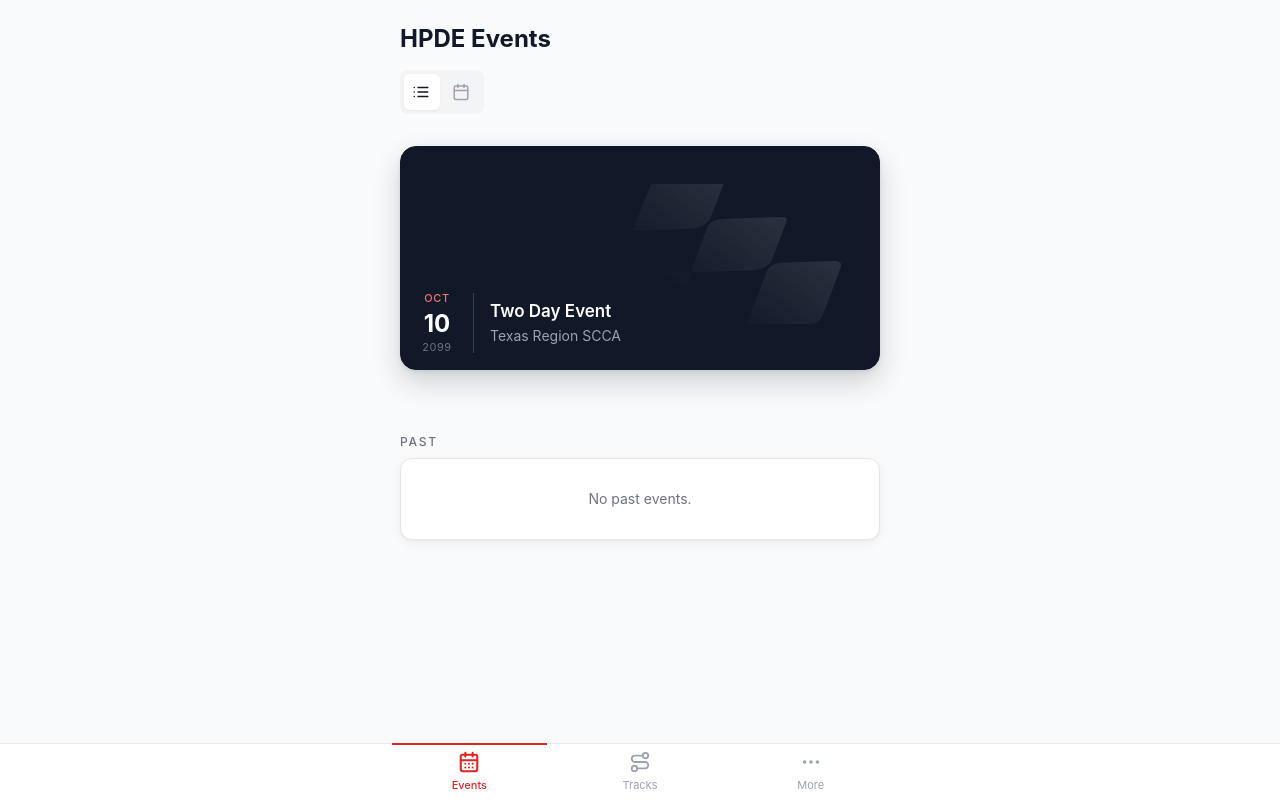
the More tab: Share, the iOS widget and the build date (#395, #416) › still switches between list and calendar
expect the button "Oct 10 2099 Two Day Event Texas Region SCCA" is shown: met, box [400,146,880,370]
Step 1. Click the button named "Calendar view" → {"x": 462, "y": 92}, box [444,74,480,110]
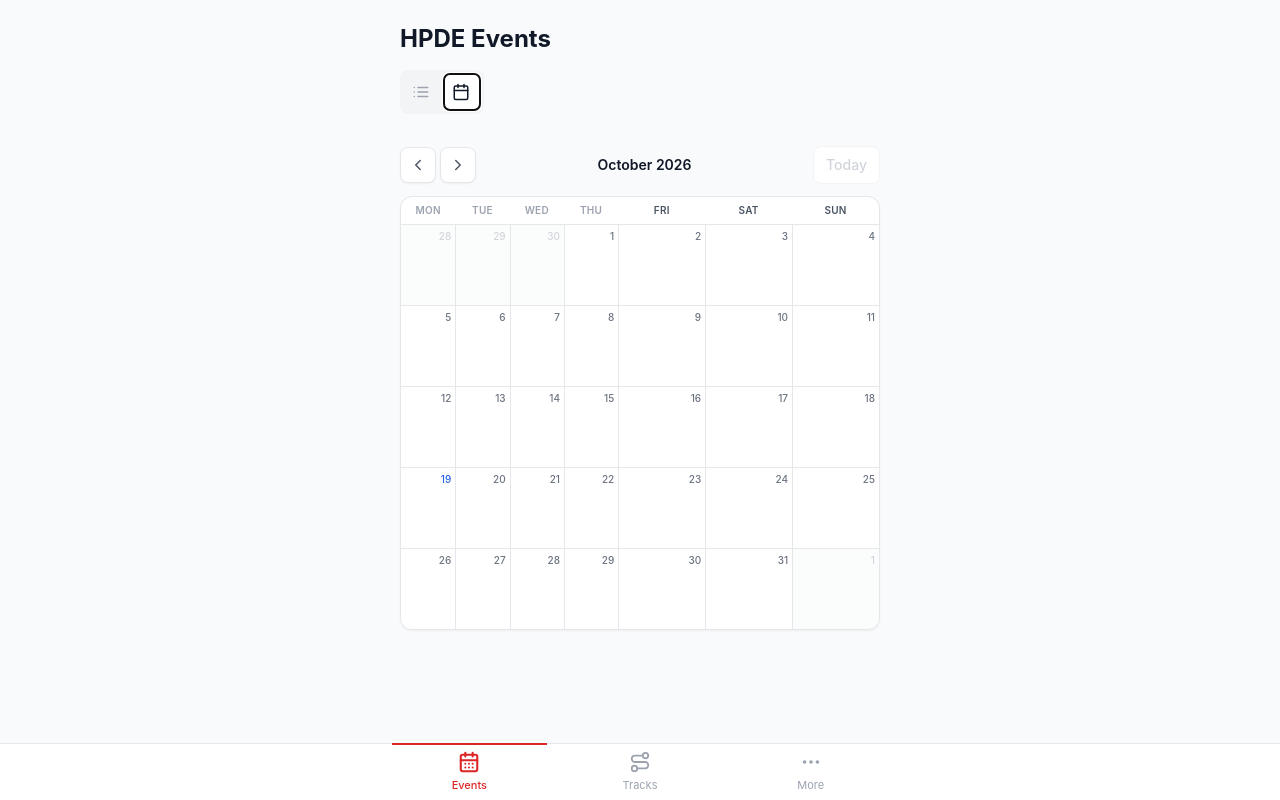
expect the heading "Past" is gone: met
Step 2. Click the button named "List view" → {"x": 422, "y": 92}, box [404,74,440,110]
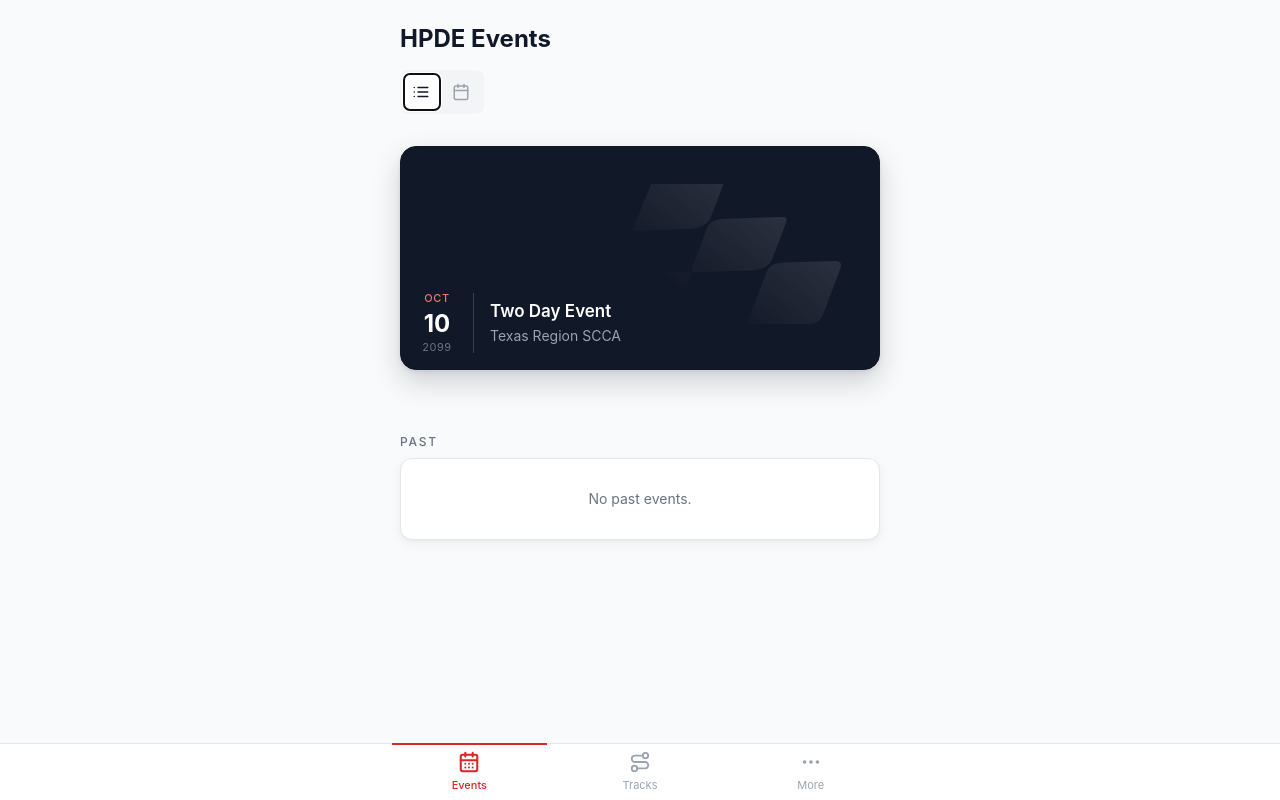
expect the heading "Past" is shown: met, box [400,434,438,450]
